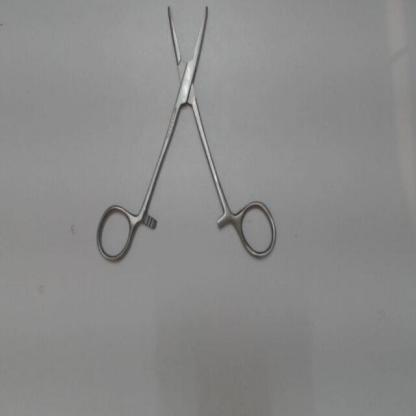Mayo Needle Holder: (90, 3, 285, 268)
